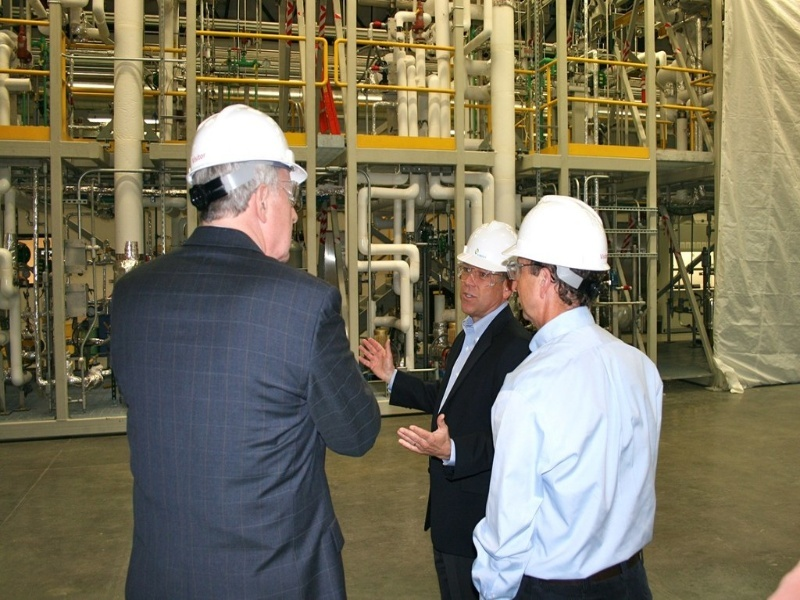baret: (185, 101, 307, 190), (510, 196, 610, 273), (457, 221, 519, 272)
gozluk: (453, 263, 500, 292)
